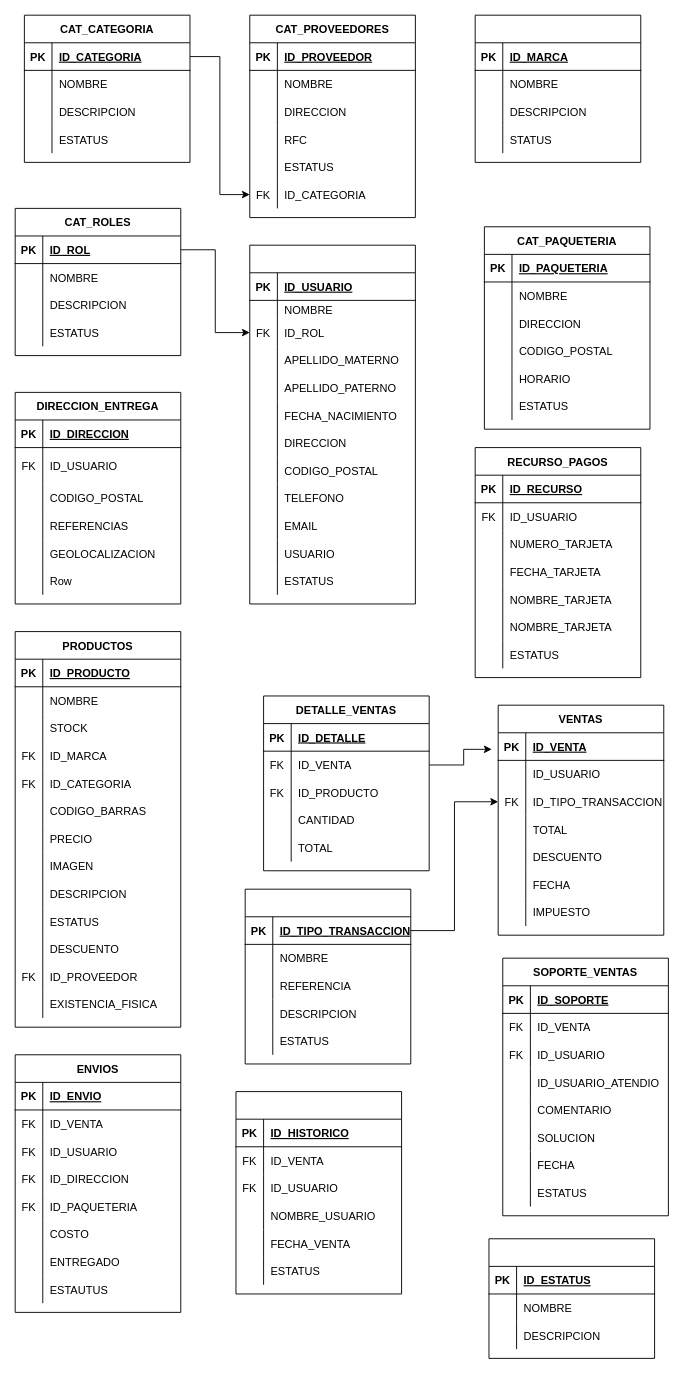
The diagram is 684 pixels wide and 1374 high, and some of its shapes have lost their labels. Each missing label, with the box of its shape:
CAT_ESTATUS: (488, 1238, 655, 1358)
CAT_MARCA: (474, 14, 641, 162)
CAT_TIPO_TRANSACCION: (244, 888, 411, 1064)
HISTORICO_VENTAS: (235, 1091, 402, 1294)
USUARIOS: (249, 244, 415, 604)
